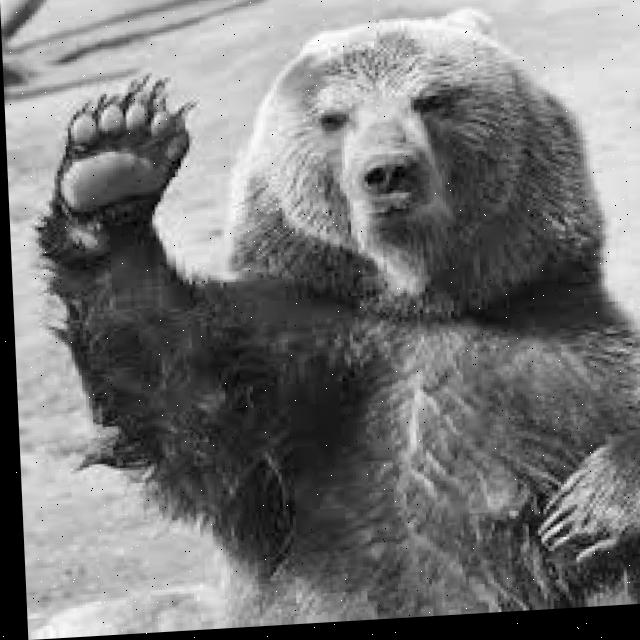Bear: (39, 0, 640, 618)
